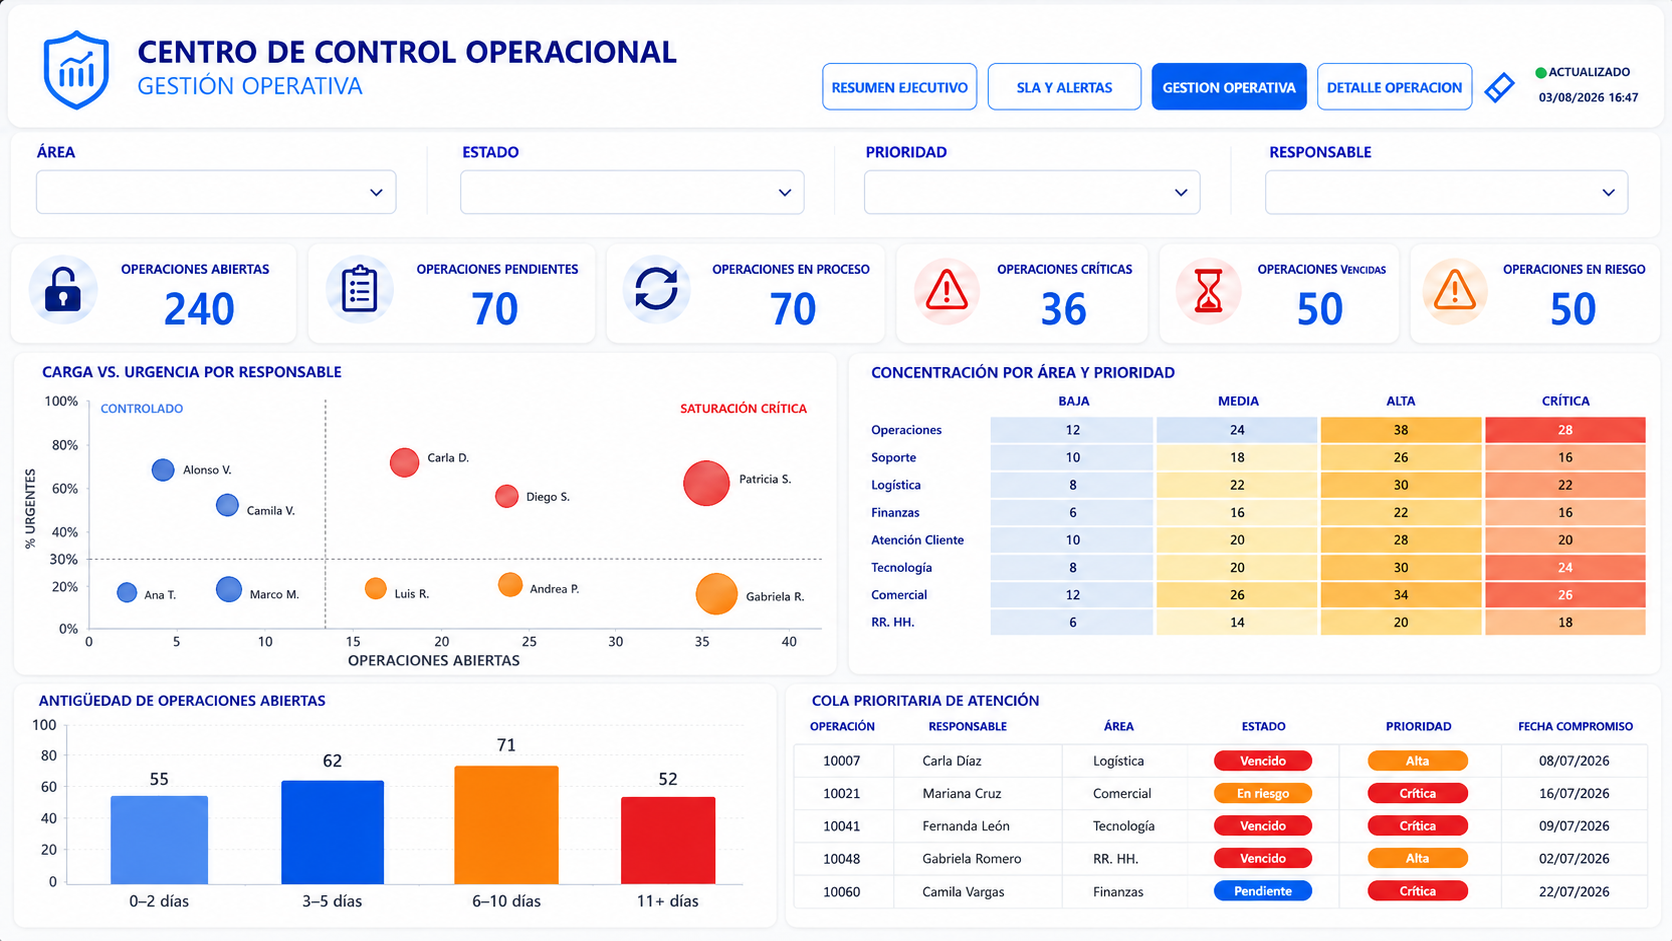

What the dashboard file says about the page in this screenshot:
{"tool":"powerbi","page":{"name":"GESTION OPERATIVA","canvas":[1672,941],"ordinal":2},"visuals":[{"type":"slicer","fields":{"Values":["Dim_Area.Area"]},"box":[37.3,185,359.1,45.9],"z":0},{"type":"slicer","fields":{"Values":["Dim_Estado.Estado"]},"box":[462.8,184.8,342.4,45.6],"z":1000},{"type":"slicer","fields":{"Values":["Dim_Prioridad.Prioridad"]},"box":[866.8,184.8,333.6,45.6],"z":2000},{"type":"slicer","fields":{"Values":["Dim_Responsable.Responsable"]},"box":[1266.4,184.8,359.6,46],"z":3000},{"type":"pageNavigator","box":[824,68,650,48],"z":4000},{"type":"actionButton","box":[1487,68,40,48],"z":5000},{"type":"cardVisual","title":"ACTUALIZADO","fields":{"Data":["Consulta.Texto Actualizacion"]},"box":[1536,68,110,48],"z":6000},{"type":"shape","box":[1535.2,71.6,12,12],"z":7000},{"type":"cardVisual","fields":{"Data":["Fact_Operaciones.Operaciones Abiertas"]},"box":[106.2,278.8,177.5,66.2],"z":8000},{"type":"cardVisual","fields":{"Data":["Fact_Operaciones.Operaciones Pendientes"]},"box":[413.8,278.8,177.5,66.2],"z":9000},{"type":"cardVisual","fields":{"Data":["Fact_Operaciones.Operaciones En Proceso"]},"box":[701.2,278.8,177.5,66.2],"z":10000},{"type":"cardVisual","fields":{"Data":["Fact_Operaciones.Operaciones Criticas"]},"box":[980,278.8,177.5,66.2],"z":11000},{"type":"cardVisual","fields":{"Data":["Fact_Operaciones.Operaciones Vencidas"]},"box":[1222.5,278.8,177.5,66.2],"z":12000},{"type":"cardVisual","fields":{"Data":["Fact_Operaciones.Operaciones En Riesgo"]},"box":[1487.5,278.8,177.5,66.2],"z":13000},{"type":"scatterChart","fields":{"X":["Fact_Operaciones.Operaciones Abiertas"],"Size":["Fact_Operaciones.Operaciones Criticas"],"Category":["Dim_Responsable.Responsable"],"Y":["Fact_Operaciones.Porcentaje Operaciones Urgentes"]},"box":[25.7,405.7,798.6,258.6],"z":14000},{"type":"pivotTable","fields":{"Rows":["Dim_Area.Area"],"Columns":["Dim_Prioridad.Prioridad"],"Values":["Fact_Operaciones.Operaciones Abiertas"]},"box":[864.3,401.4,781.4,268.6],"z":15000},{"type":"clusteredColumnChart","fields":{"Category":["Fact_Operaciones.Rango Antiguedad"],"Y":["Fact_Operaciones.Operaciones Abiertas"]},"box":[25.7,712.9,740,205.7],"z":16000},{"type":"tableEx","fields":{"Values":["Fact_Operaciones.OperacionID","Dim_Responsable.Responsable","Dim_Area.Area","Dim_Estado.Estado","Dim_Prioridad.Prioridad","Fact_Operaciones.FechaCompromiso"]},"box":[801.7,713.3,845,205],"z":17000}]}

Visuals, with their boxes in screenshot pixels (x1, y1, x2, y2), scaled from the page's 1672x941 canvas onto the 1672x941 screenshot:
slicer - Dim_Area.Area: [x1=37, y1=185, x2=396, y2=231]
slicer - Dim_Estado.Estado: [x1=463, y1=185, x2=805, y2=230]
slicer - Dim_Prioridad.Prioridad: [x1=867, y1=185, x2=1200, y2=230]
slicer - Dim_Responsable.Responsable: [x1=1266, y1=185, x2=1626, y2=231]
pageNavigator: [x1=824, y1=68, x2=1474, y2=116]
actionButton: [x1=1487, y1=68, x2=1527, y2=116]
"ACTUALIZADO" cardVisual: [x1=1536, y1=68, x2=1646, y2=116]
shape: [x1=1535, y1=72, x2=1547, y2=84]
cardVisual - Fact_Operaciones.Operaciones Abiertas: [x1=106, y1=279, x2=284, y2=345]
cardVisual - Fact_Operaciones.Operaciones Pendientes: [x1=414, y1=279, x2=591, y2=345]
cardVisual - Fact_Operaciones.Operaciones En Proceso: [x1=701, y1=279, x2=879, y2=345]
cardVisual - Fact_Operaciones.Operaciones Criticas: [x1=980, y1=279, x2=1158, y2=345]
cardVisual - Fact_Operaciones.Operaciones Vencidas: [x1=1222, y1=279, x2=1400, y2=345]
cardVisual - Fact_Operaciones.Operaciones En Riesgo: [x1=1488, y1=279, x2=1665, y2=345]
scatterChart - Fact_Operaciones.Operaciones Abiertas x Fact_Operaciones.Operaciones Criticas: [x1=26, y1=406, x2=824, y2=664]
pivotTable - Dim_Area.Area x Dim_Prioridad.Prioridad: [x1=864, y1=401, x2=1646, y2=670]
clusteredColumnChart - Fact_Operaciones.Rango Antiguedad x Fact_Operaciones.Operaciones Abiertas: [x1=26, y1=713, x2=766, y2=919]
tableEx - Fact_Operaciones.OperacionID x Dim_Responsable.Responsable: [x1=802, y1=713, x2=1647, y2=918]
